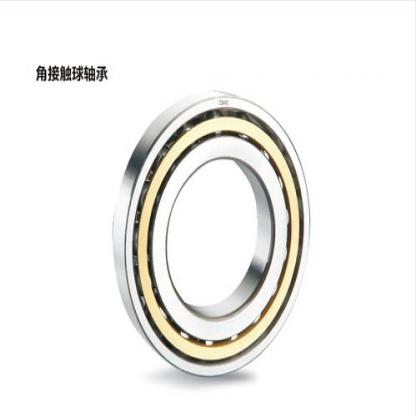FOD: (110, 80, 314, 382)
